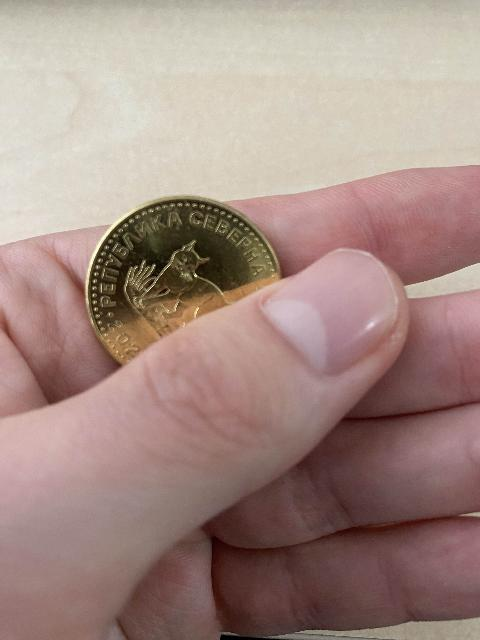coin: (87, 197, 280, 364)
